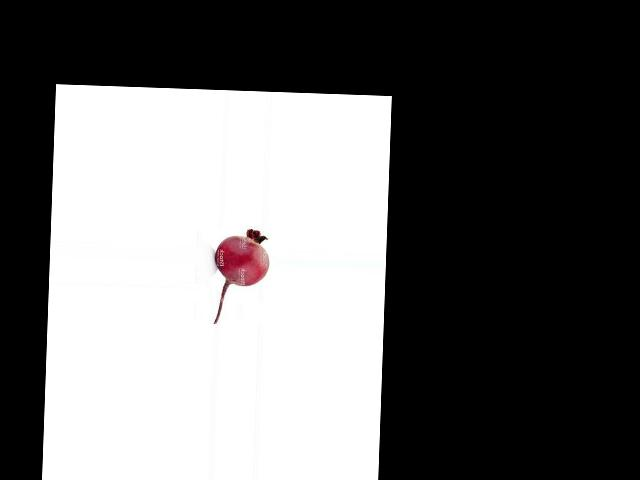beet: (212, 228, 269, 325)
